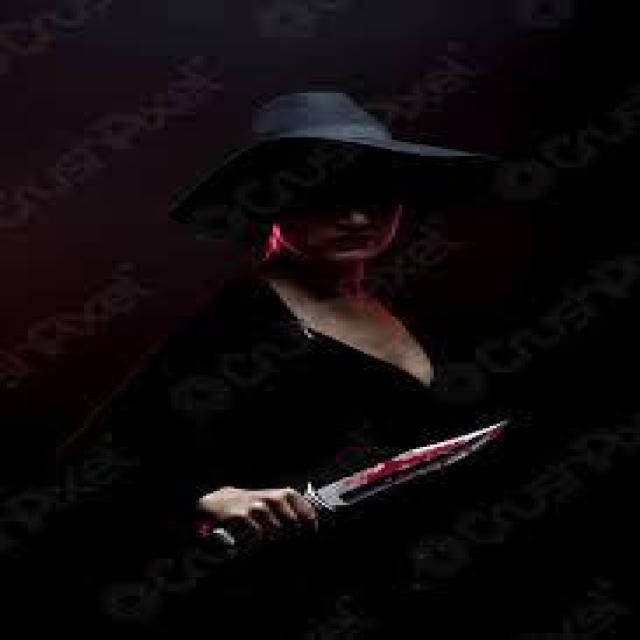faca: (196, 414, 538, 568)
